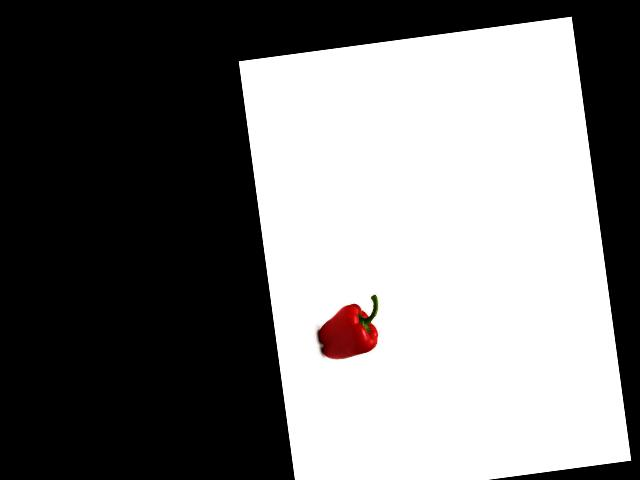bell_pepper: (309, 292, 388, 364)
